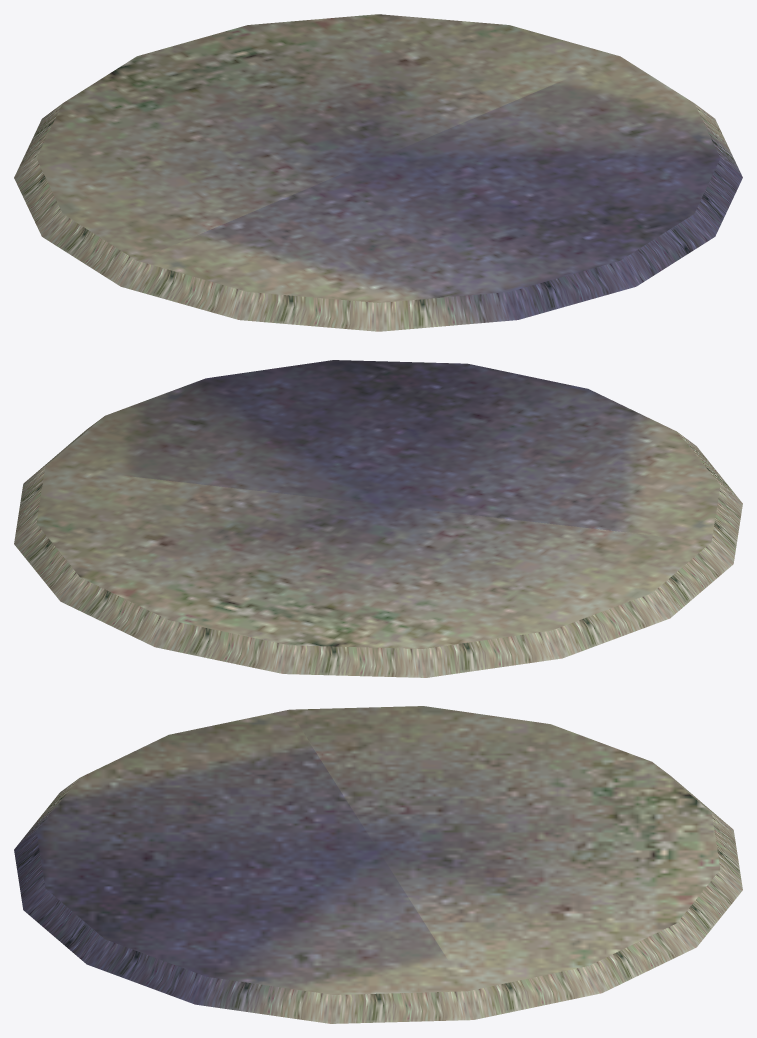
The picture shows the model from 3 angles, top to bottom: view 1: azimuth 30°, elevation 25°; view 2: azimuth 150°, elevation 25°; view 3: azimuth 270°, elevation 25°; orthographic projection.
Visible parts, largest first — view 1: Joint_0_Object_0; view 2: Joint_0_Object_0; view 3: Joint_0_Object_0.
Part boxes in pixels (x1=…): Joint_0_Object_0: x1=14, y1=14, x2=742, y2=331; Joint_0_Object_0: x1=14, y1=360, x2=742, y2=677; Joint_0_Object_0: x1=14, y1=706, x2=742, y2=1023.
Size of the model in its own units: 332 by 9.78 by 332.
1 material, 1 textured.
